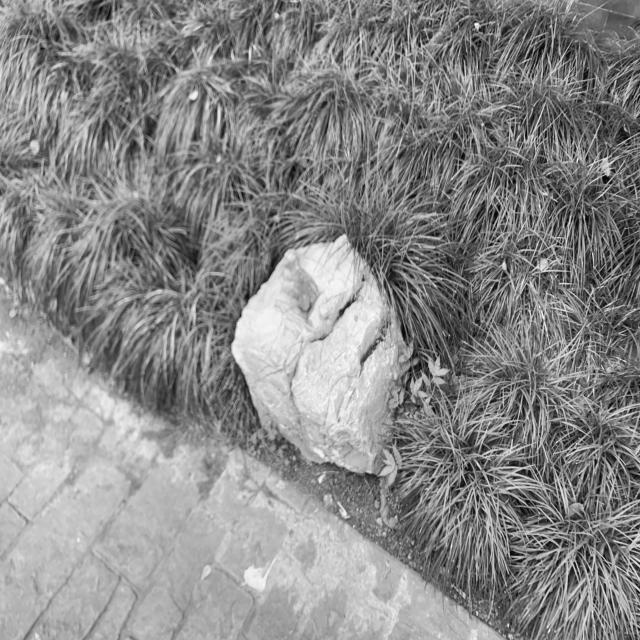Stone: (232, 235, 402, 473)
